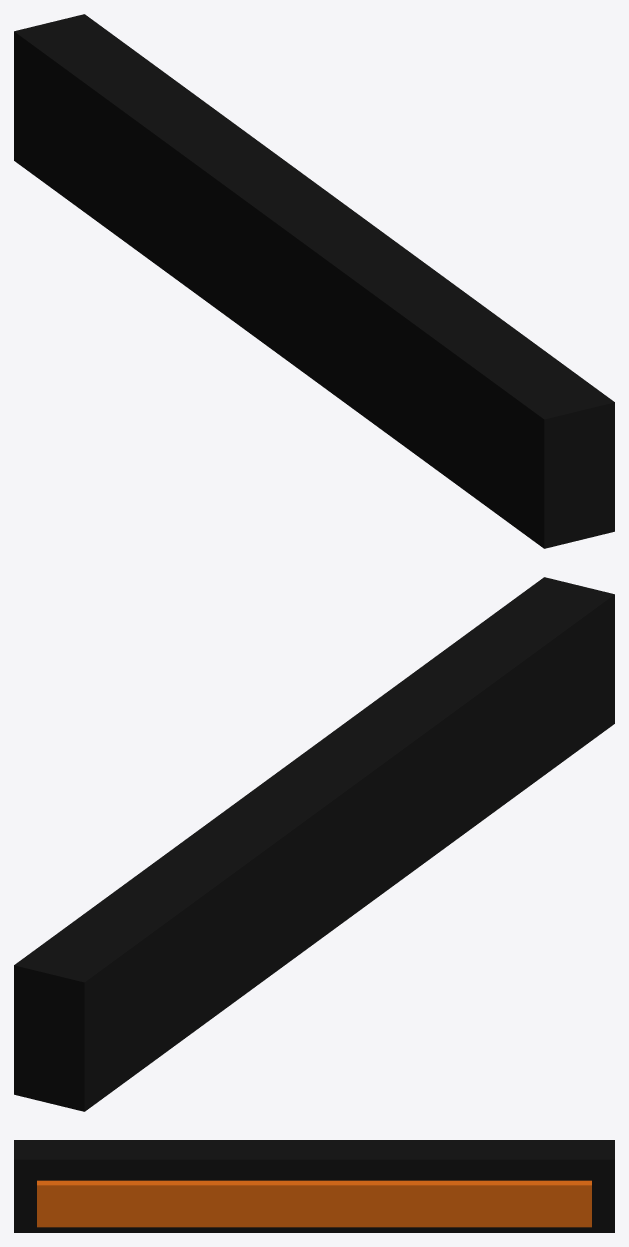
Rendered from shuttle_bus_destination_sign.glb.
3 views of the same model, one above another, from view 1: azimuth 30°, elevation 25°; view 2: azimuth 150°, elevation 25°; view 3: azimuth 270°, elevation 25° (orthographic). The views are drawn at different scales.
Visible parts, largest first — view 1: body:compound; view 2: body:compound; view 3: body:compound.
Boxes of the visible parts, x1,y1,x2,y2 form: body:compound: (14,14,614,548); body:compound: (14,577,614,1111); body:compound: (14,1140,614,1232).
Bounding box in the file's own units: 0.1562 × 0.2188 × 1.62.
